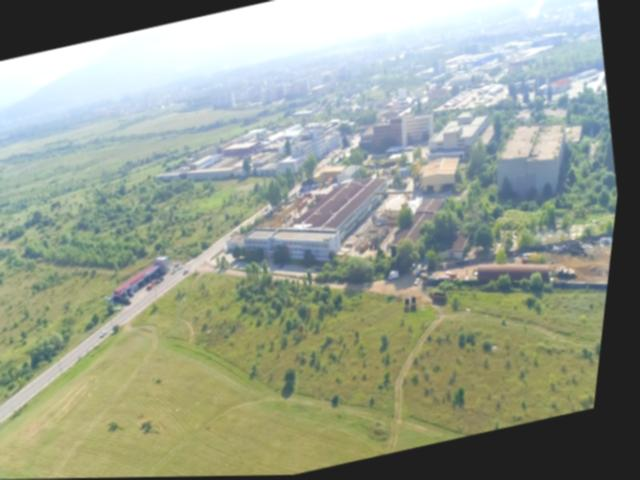plane: (298, 219, 319, 235)
